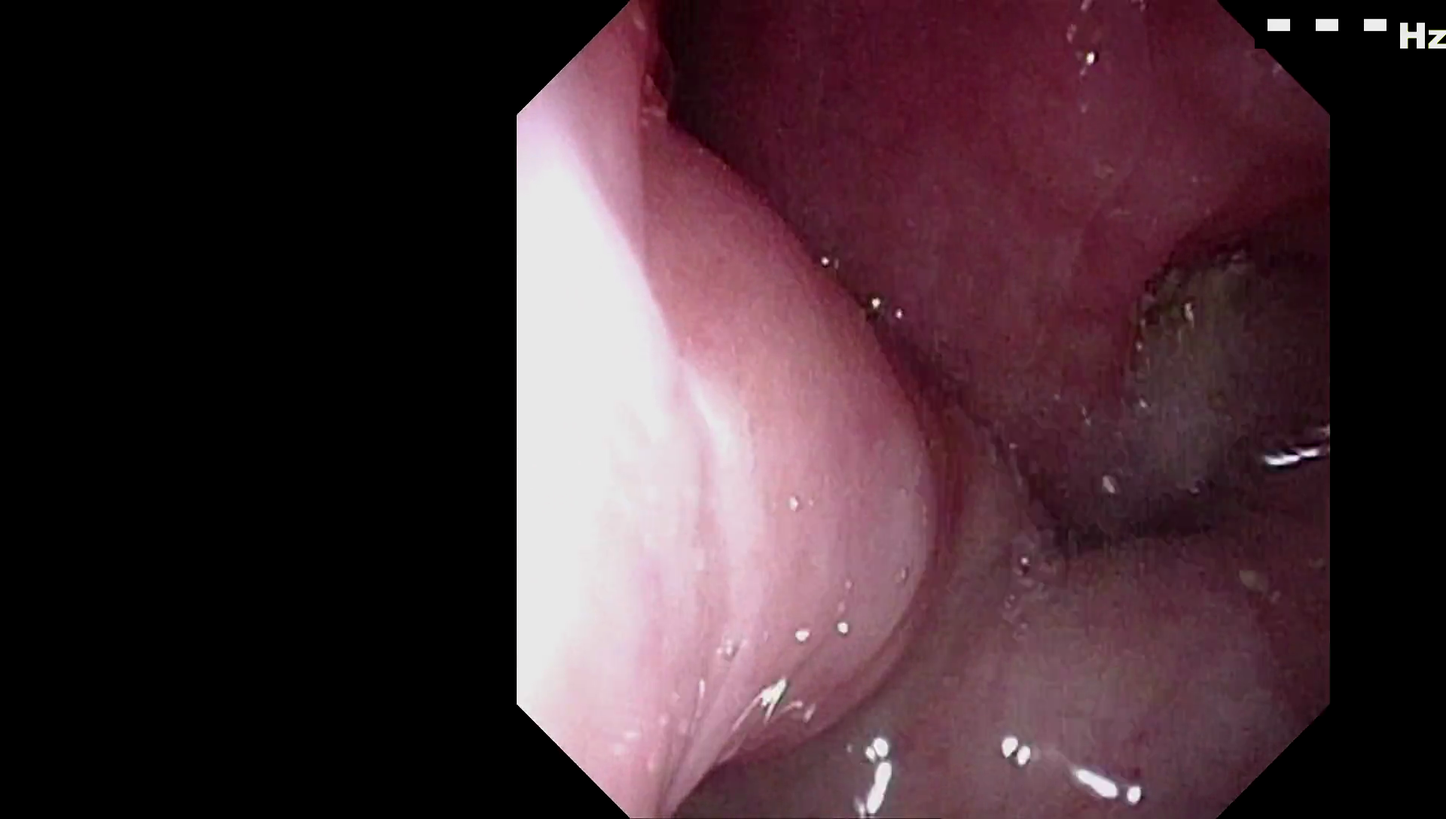close_wall: (523, 130, 850, 703)
next: (989, 391, 1278, 583), (652, 7, 770, 191)
